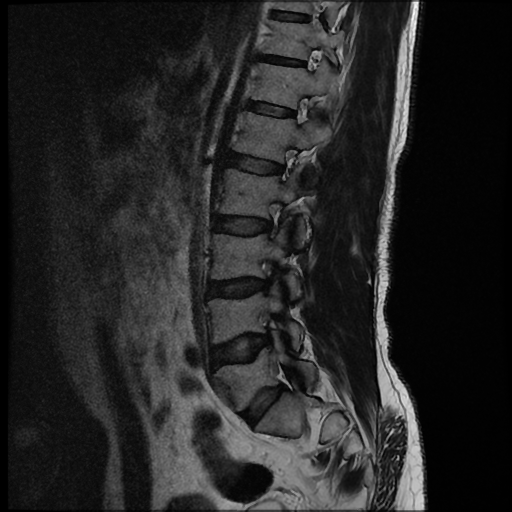LFS3: (254, 252, 288, 302)
RFS0: (270, 140, 300, 190)
RFS3: (256, 193, 288, 247)
